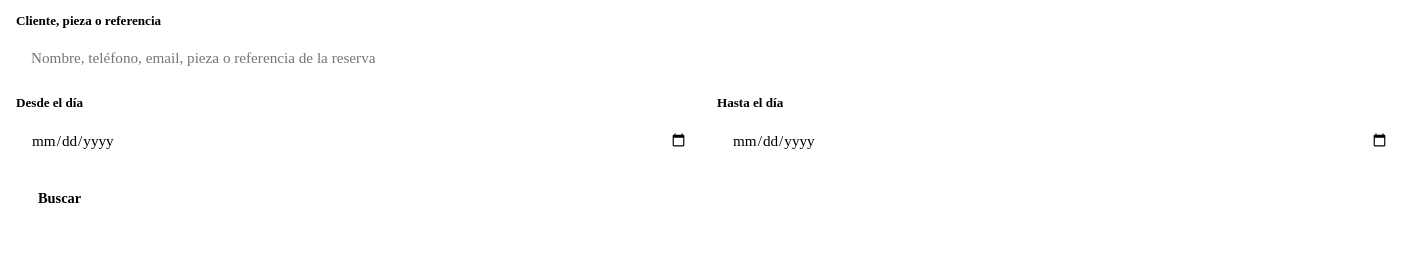
BuscadorReservas — buscar › el aviso se quita al tocar cualquier campo
Click the button "Buscar".
click(60, 198)  # box [16,179,103,218]
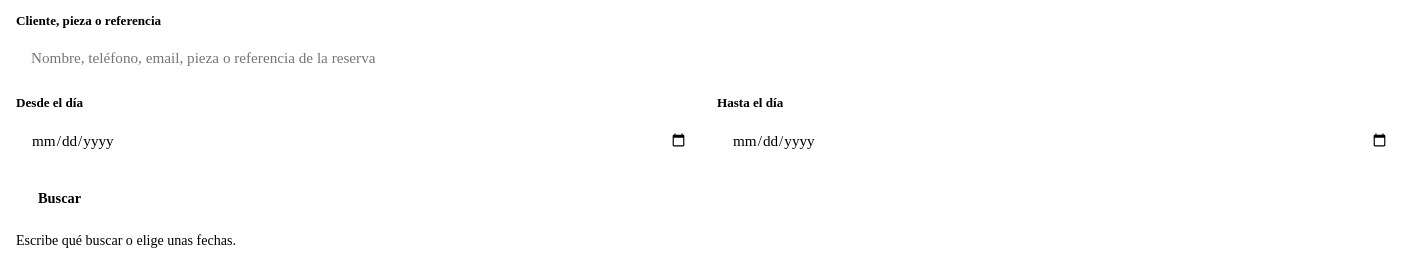
Expected: the message "Escribe qué buscar o elige unas fechas." is shown, [16,232,236,248]
Type "a" into the search field labelled "Cliente, pieza o referencia".
click(710, 58); type("a")  # box [16,35,1404,81]
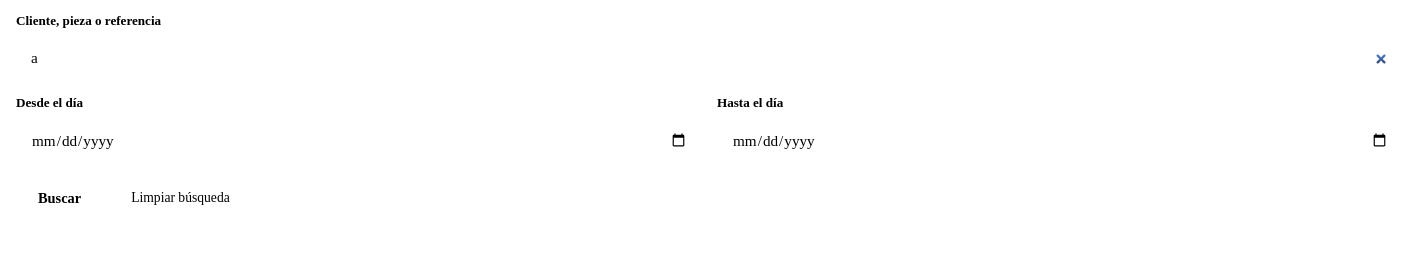
Expected: the message "Escribe qué buscar o elige unas fechas." is gone
Clear the search field labelled "Cliente, pieza o referencia" at (710, 58), box [16,35,1404,81]
Click the button "Buscar".
click(60, 198)  # box [16,179,103,218]
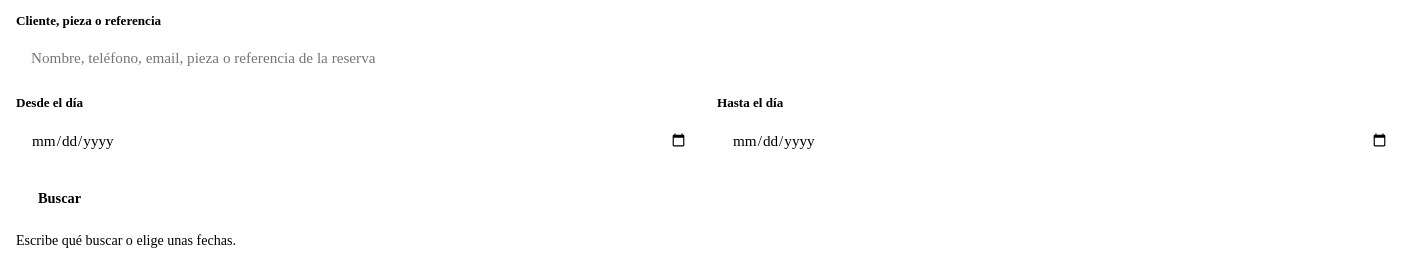
Expected: the message "Escribe qué buscar o elige unas fechas." is shown, [16,232,236,248]
Type "2026-11-02" into the date field labelled "Desde el día".
click(360, 141); type("2026-11-02")  # box [16,117,703,165]
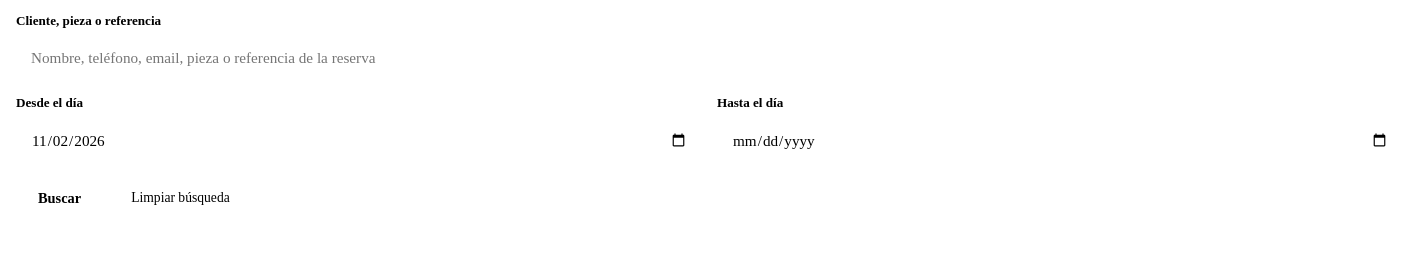
Expected: the message "Escribe qué buscar o elige unas fechas." is gone
Clear the date field labelled "Desde el día" at (360, 141), box [16,117,703,165]
Click the button "Buscar".
click(60, 198)  # box [16,179,103,218]
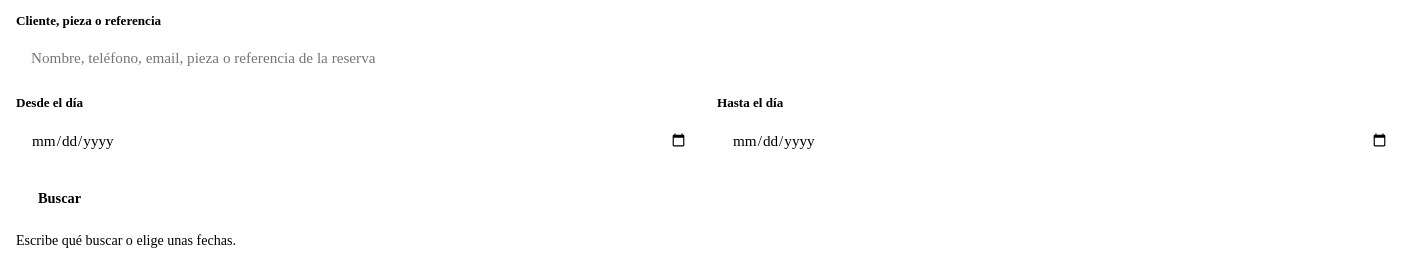
Expected: the message "Escribe qué buscar o elige unas fechas." is shown, [16,232,236,248]
Type "2026-11-02" into the date field labelled "Hasta el día".
click(1060, 141); type("2026-11-02")  # box [717,117,1404,165]
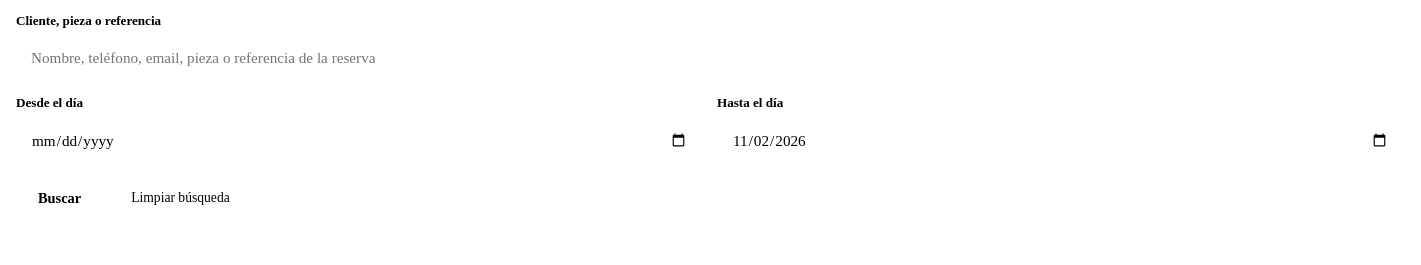
Expected: the message "Escribe qué buscar o elige unas fechas." is gone
